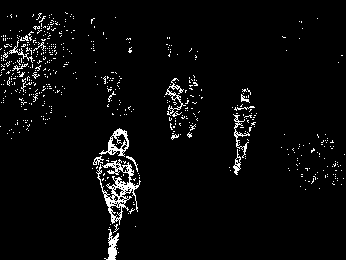person: (92, 128, 141, 260), (232, 87, 257, 176), (164, 77, 186, 140), (183, 74, 203, 139)
